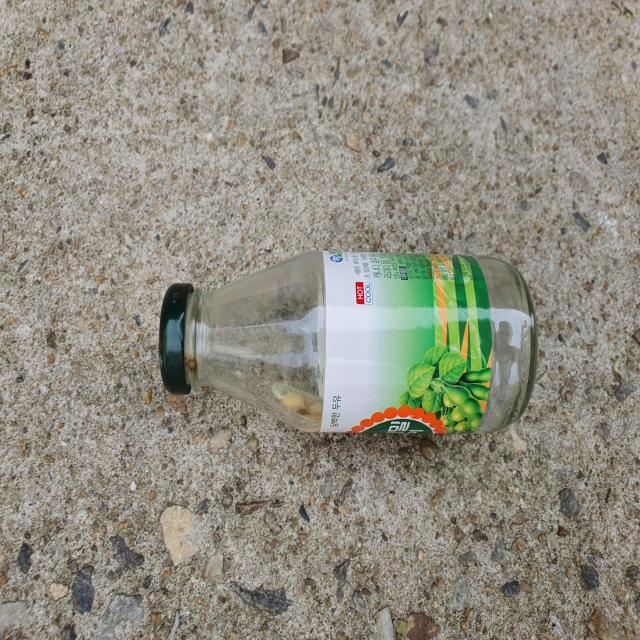glass: (159, 251, 538, 434)
